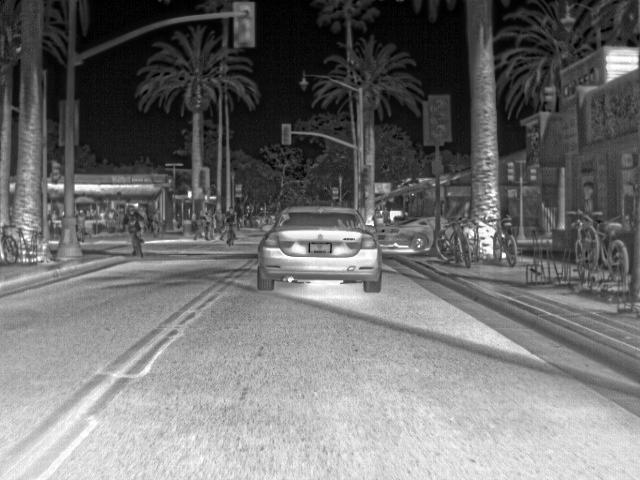car: (257, 206, 381, 292), (377, 213, 434, 249)
person: (123, 204, 143, 234), (200, 206, 215, 240), (151, 208, 162, 236), (106, 207, 117, 234), (224, 205, 238, 224), (214, 209, 225, 233), (98, 206, 108, 220)
